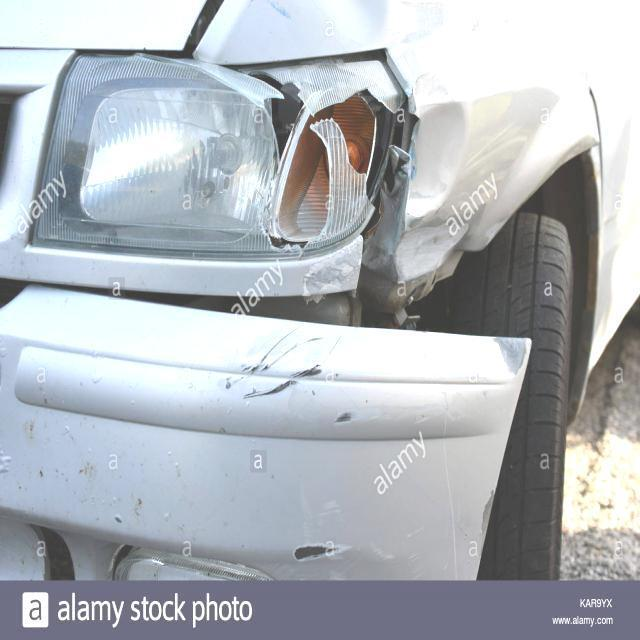minor: (290, 541, 391, 565), (107, 492, 149, 535), (334, 412, 352, 424)
moderate: (38, 54, 406, 259), (214, 329, 342, 396)
